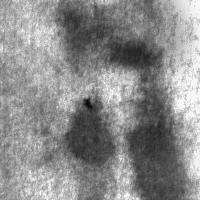patches: (0, 0, 83, 122), (122, 75, 193, 200), (93, 0, 187, 83), (55, 1, 107, 75), (64, 98, 115, 166), (156, 125, 200, 200), (108, 40, 161, 71)
